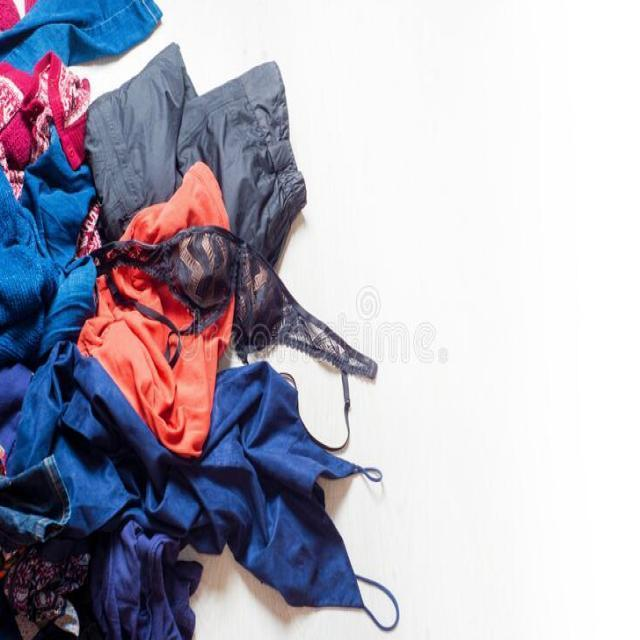clothes: (0, 511, 131, 640)
